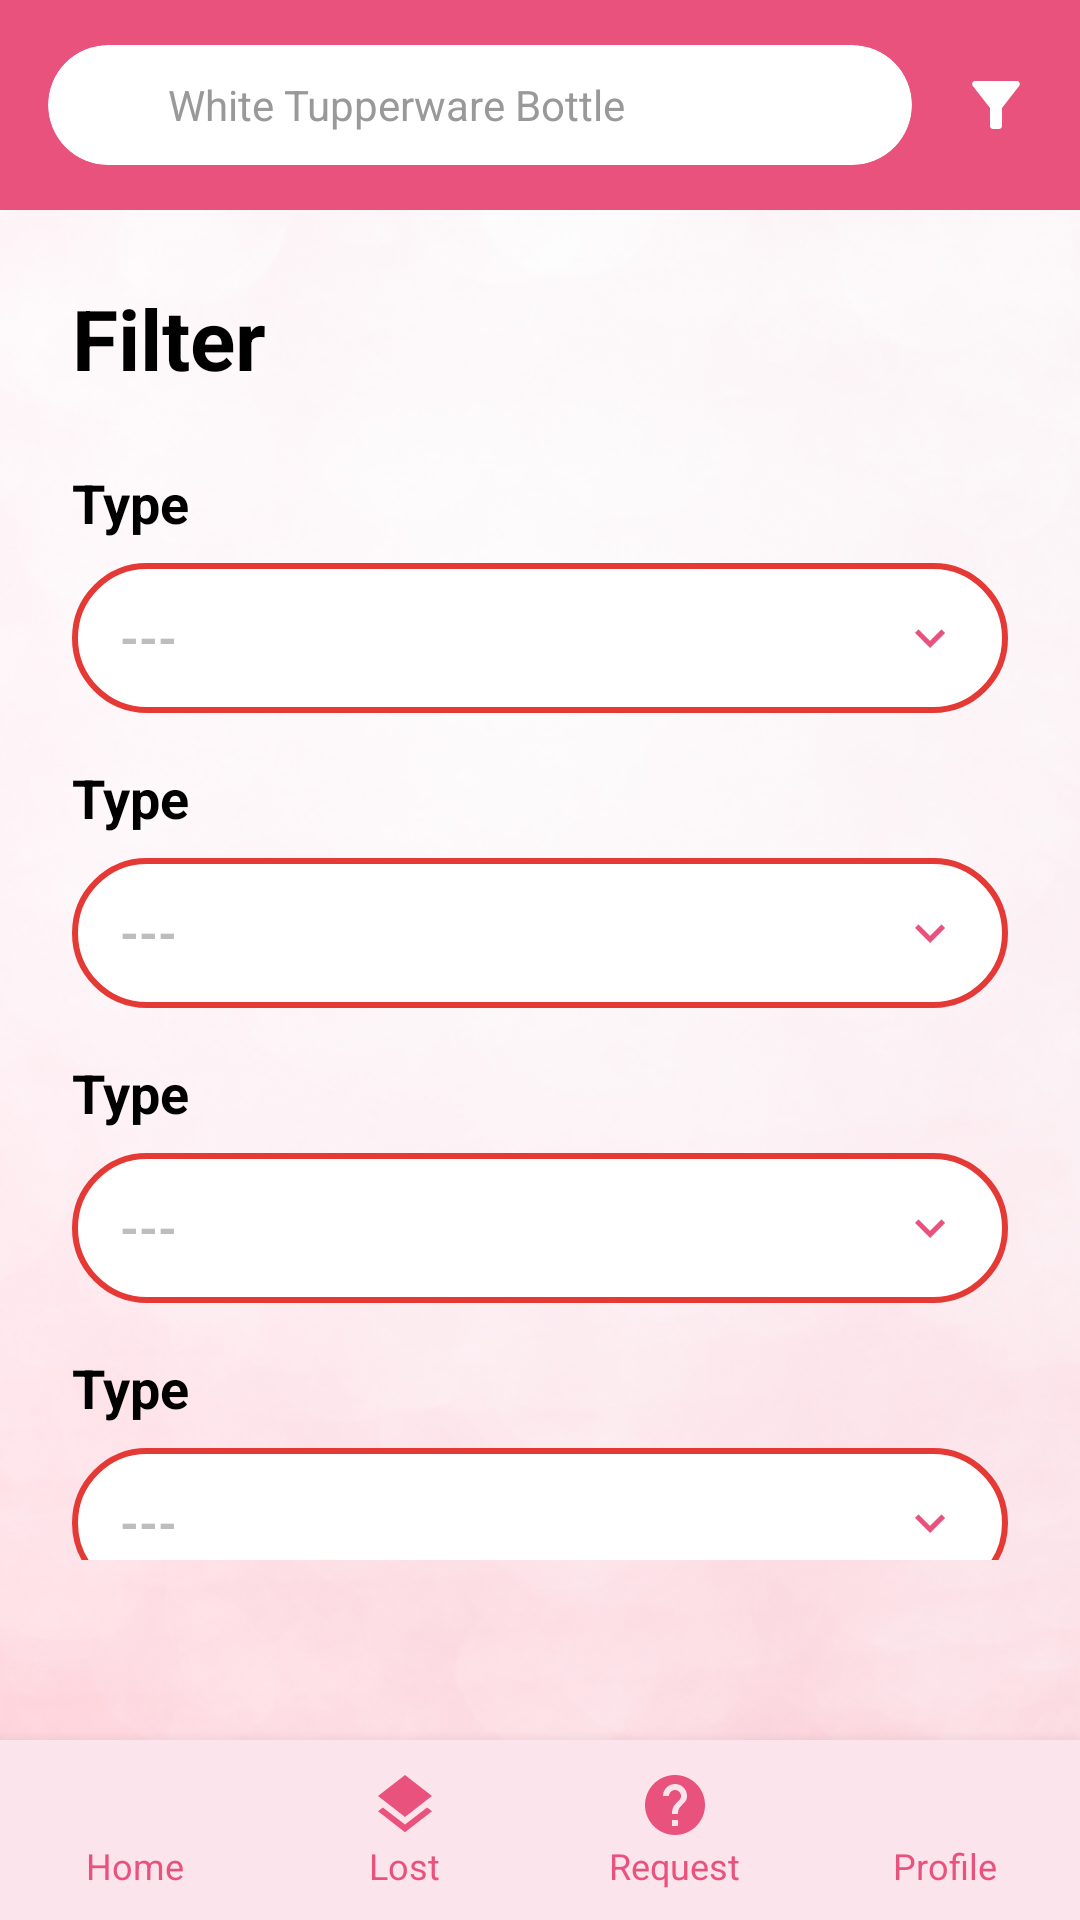

Screen size 1080px x 1920px. Icon name, then its box in pixels as (x1, y1, x2, y2):
arrow down: (915, 629, 945, 648), (915, 924, 945, 943), (915, 1219, 945, 1238), (915, 1514, 945, 1533)
filter: (972, 81, 1020, 129)
help: (645, 1775, 705, 1835)
layers: (378, 1775, 432, 1832)
